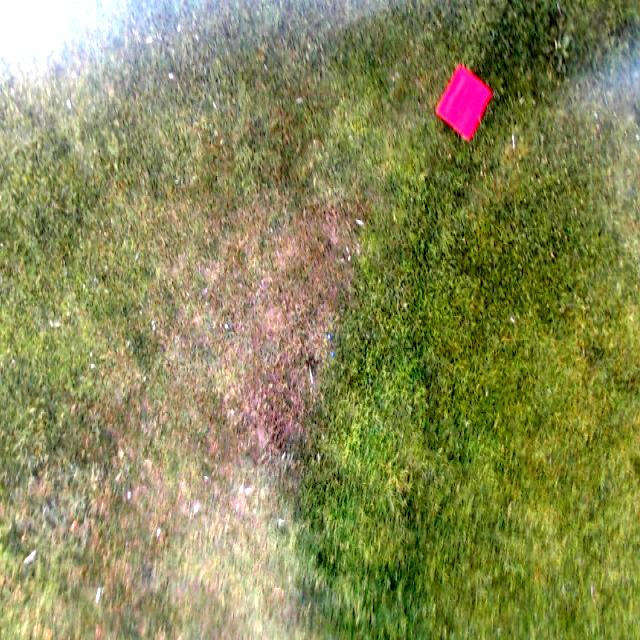red_square: (434, 65, 492, 141)
